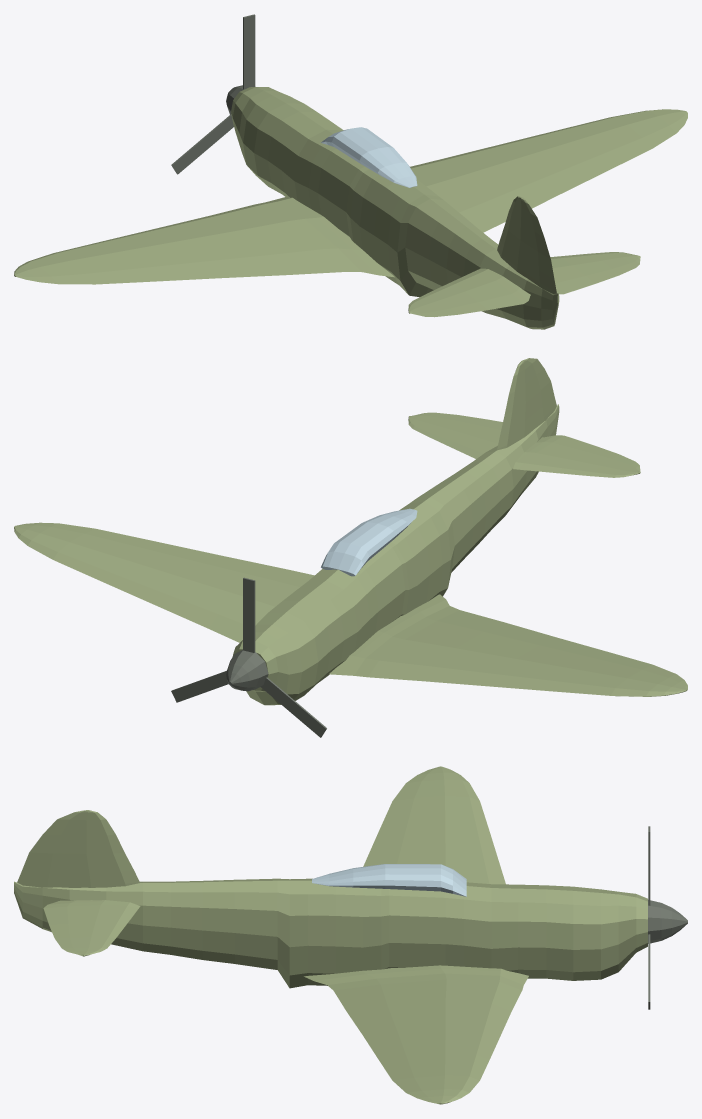
File: yak1b.glb
The picture shows the model from 3 angles, top to bottom: view 1: azimuth 30°, elevation 25°; view 2: azimuth 150°, elevation 25°; view 3: azimuth 270°, elevation 25°; orthographic projection. The views are drawn at different scales.
Visible parts, largest first — view 1: YAK_Fuselage, YAK_WingL, YAK_WingR, YAK_TailL, YAK_Fin, YAK_Canopy, YAK_TailR, YAK_Prop; view 2: YAK_Fuselage, YAK_WingL, YAK_WingR, YAK_TailL, YAK_Fin, YAK_Canopy, YAK_TailR, YAK_Prop, YAK_Spinner; view 3: YAK_Fuselage, YAK_WingR, YAK_WingL, YAK_Fin, YAK_TailR, YAK_Canopy, YAK_Spinner.
Part boxes in pixels (bbox=[...]): YAK_Fuselage: bbox=[231, 87, 559, 329]; YAK_WingL: bbox=[14, 196, 394, 284]; YAK_WingR: bbox=[410, 109, 687, 232]; YAK_TailL: bbox=[408, 268, 530, 317]; YAK_Fin: bbox=[497, 196, 556, 293]; YAK_Canopy: bbox=[321, 127, 417, 187]; YAK_TailR: bbox=[550, 252, 640, 294]; YAK_Prop: bbox=[171, 14, 255, 174]; YAK_Fuselage: bbox=[232, 404, 559, 705]; YAK_WingL: bbox=[329, 594, 687, 696]; YAK_WingR: bbox=[14, 522, 314, 642]; YAK_TailL: bbox=[513, 435, 640, 477]; YAK_Fin: bbox=[497, 358, 556, 450]; YAK_Canopy: bbox=[321, 508, 417, 576]; YAK_TailR: bbox=[408, 412, 502, 458]; YAK_Prop: bbox=[171, 577, 326, 737]; YAK_Spinner: bbox=[226, 650, 268, 691]; YAK_Fuselage: bbox=[14, 878, 647, 988]; YAK_WingR: bbox=[304, 965, 528, 1104]; YAK_WingL: bbox=[363, 766, 505, 884]; YAK_Fin: bbox=[17, 810, 139, 887]; YAK_TailR: bbox=[43, 900, 140, 956]; YAK_Canopy: bbox=[312, 864, 466, 896]; YAK_Spinner: bbox=[648, 900, 687, 943].
Bounding box in the file's own units: 10 × 2.44 × 8.46.
